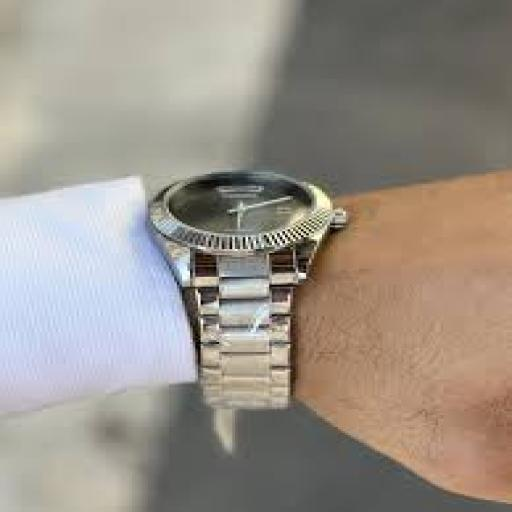KolSaati: (97, 96, 385, 434)
